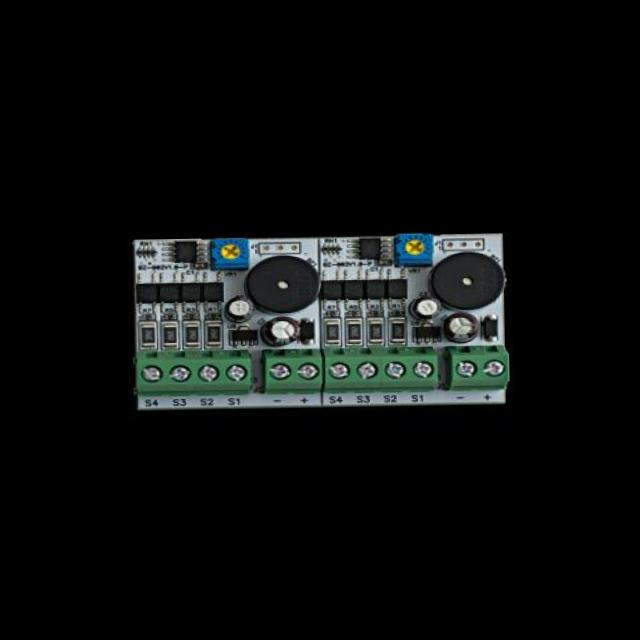IC: (165, 240, 205, 262), (352, 236, 386, 259), (384, 274, 410, 304), (342, 274, 365, 306), (157, 278, 181, 306), (364, 274, 386, 304), (201, 275, 225, 302), (134, 280, 158, 306), (320, 276, 342, 304), (411, 323, 442, 341), (181, 276, 199, 306), (230, 325, 257, 345)
capacitor: (444, 306, 481, 344), (258, 314, 299, 347), (224, 292, 252, 322), (409, 296, 444, 320), (188, 261, 208, 268), (378, 259, 390, 266)
connector: (137, 349, 254, 394), (320, 346, 439, 390), (444, 342, 507, 392), (264, 348, 322, 396)
diode: (481, 311, 502, 342), (299, 316, 317, 344)
potentiometer: (394, 236, 436, 266), (212, 238, 251, 269)
resistor: (200, 321, 220, 344), (347, 320, 362, 346), (182, 324, 201, 344), (388, 319, 404, 342), (366, 321, 384, 341), (140, 324, 156, 346), (162, 324, 178, 346), (136, 245, 158, 261), (326, 320, 341, 343), (320, 242, 342, 256), (346, 307, 362, 319), (182, 310, 198, 322), (389, 308, 407, 318), (136, 311, 156, 319), (204, 312, 222, 320), (326, 308, 342, 316), (367, 308, 382, 316), (161, 311, 176, 319)
